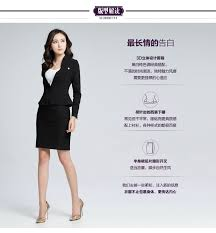F_tailored skirt: (29, 101, 78, 159)
S_business casual jacket: (33, 57, 85, 123)
